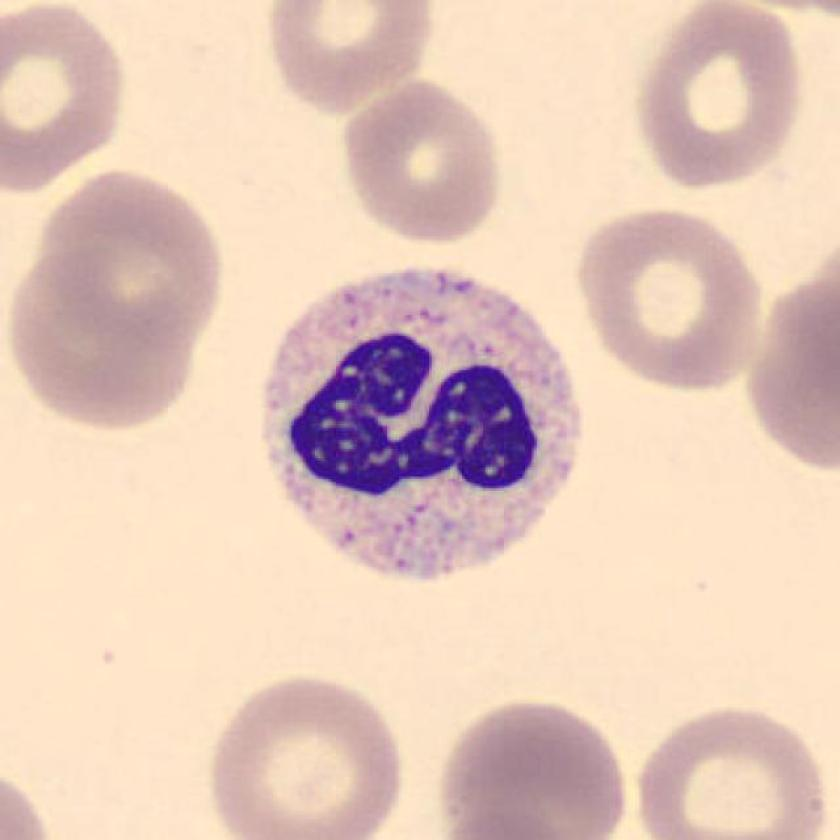neutrophil: (262, 269, 584, 579)
